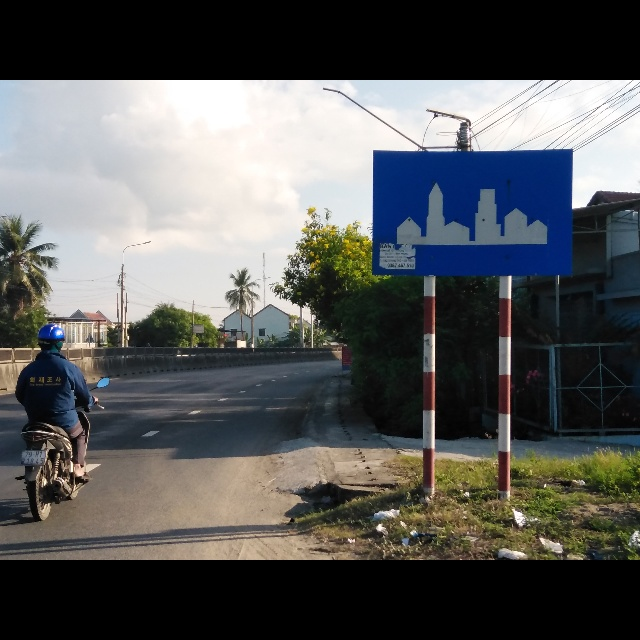Khu đông dân cư: (370, 149, 574, 278)
